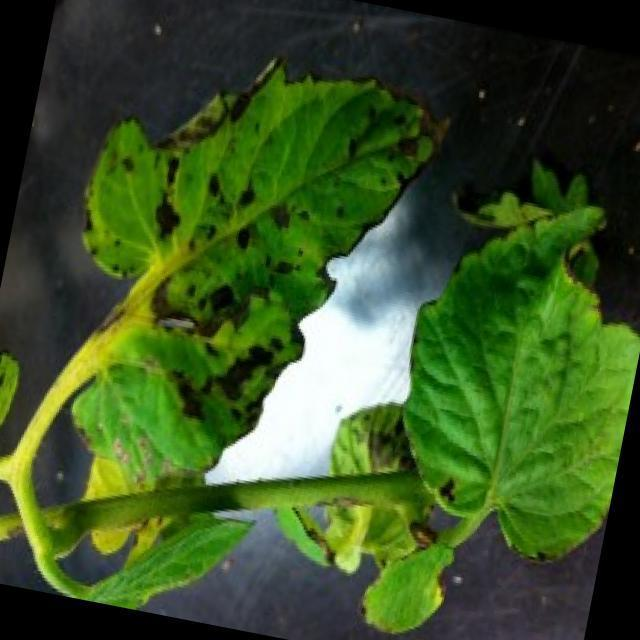Bacterial Spot: (75, 29, 455, 378), (66, 283, 322, 487)
